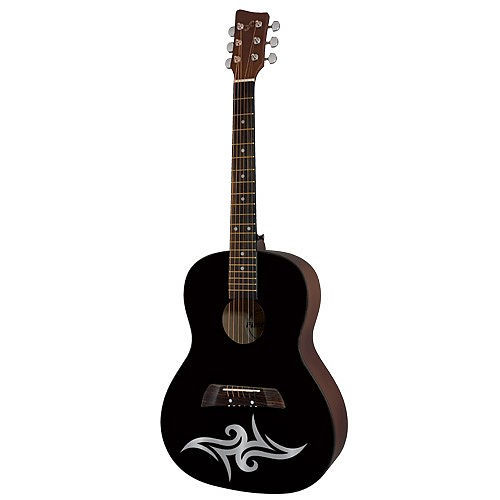guitar: (160, 7, 349, 491)
